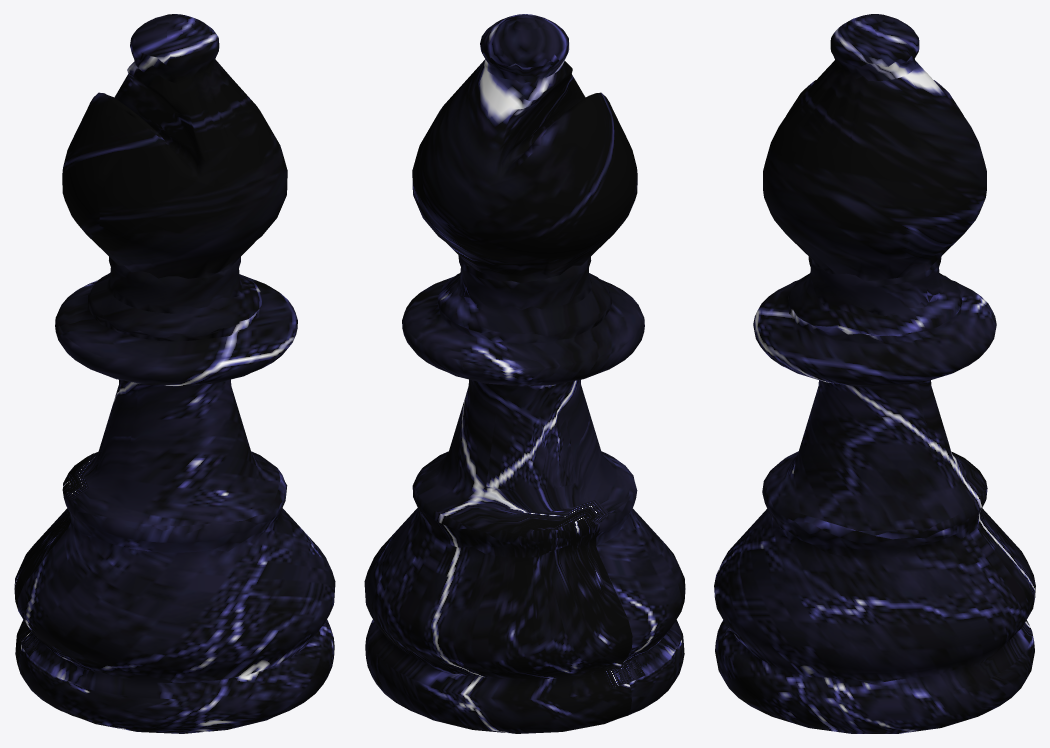
The model's file is black_bishop.glb.
3 renders of one model, left to right at view 1: azimuth 30°, elevation 25°; view 2: azimuth 150°, elevation 25°; view 3: azimuth 270°, elevation 25°, orthographic.
Parts seen in each view (by area): view 1: Circle.008; view 2: Circle.008; view 3: Circle.008.
Boxes of the visible parts, x1,y1,x2,y2 form: Circle.008: [14, 14, 335, 733]; Circle.008: [364, 14, 685, 733]; Circle.008: [714, 14, 1035, 733].
Bounding box in the file's own units: 1.25 × 2.83 × 1.25.
Materials: 1 (1 with a texture image).
